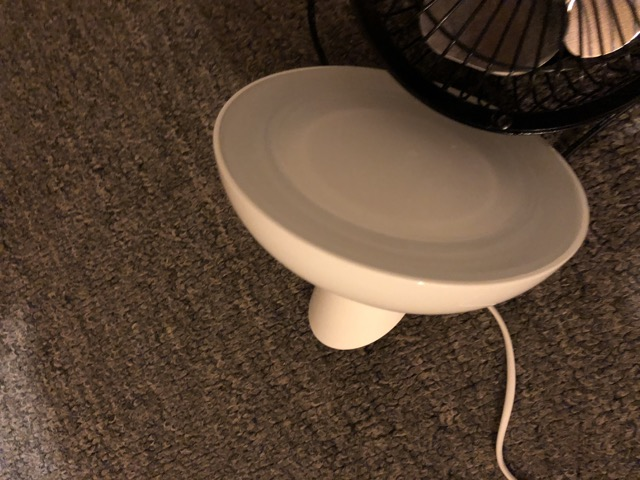fan: (324, 3, 640, 138)
light: (197, 57, 602, 360)
